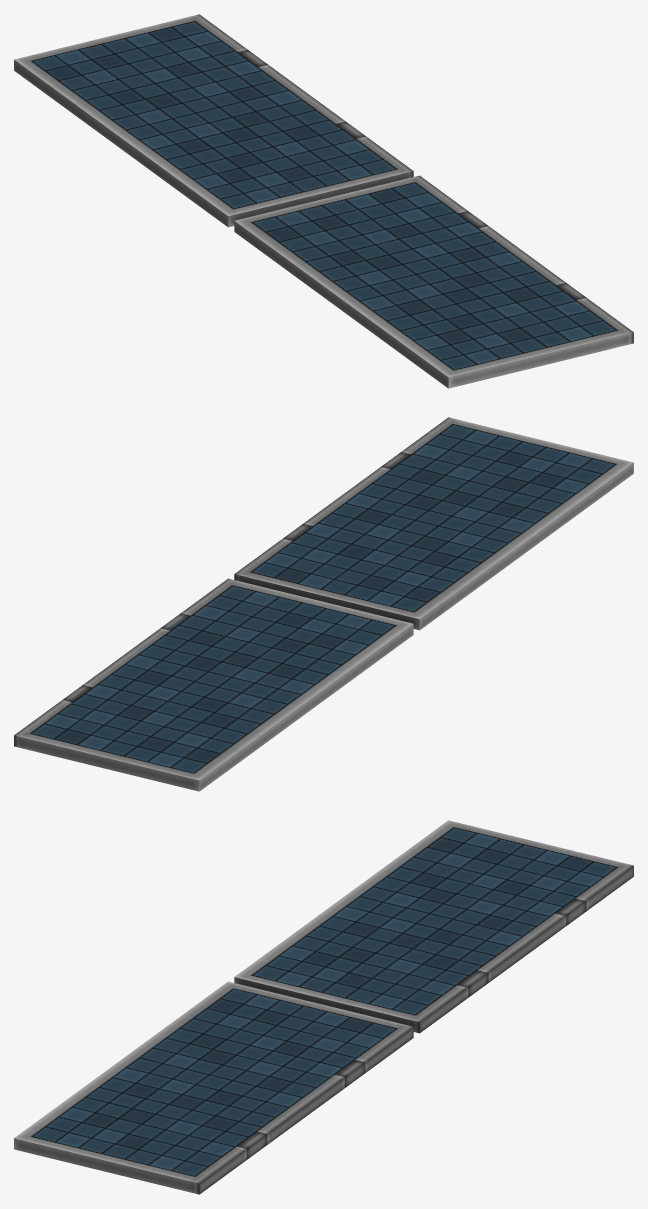
File: eridani_solar_long_wide.obj
3 views of the same model, one above another, from view 1: azimuth 30°, elevation 25°; view 2: azimuth 150°, elevation 25°; view 3: azimuth 330°, elevation 25° (orthographic).
Parts seen in each view (by area): view 1: mesh1; view 2: mesh1; view 3: mesh1.
Boxes of the visible parts, x1=… form: mesh1: x1=14, y1=14, x2=633, y2=388; mesh1: x1=14, y1=417, x2=633, y2=791; mesh1: x1=14, y1=820, x2=633, y2=1194.
Bounding box in the file's own units: 0.4375 × 0.025 × 1.78.
1 material, 1 textured.
